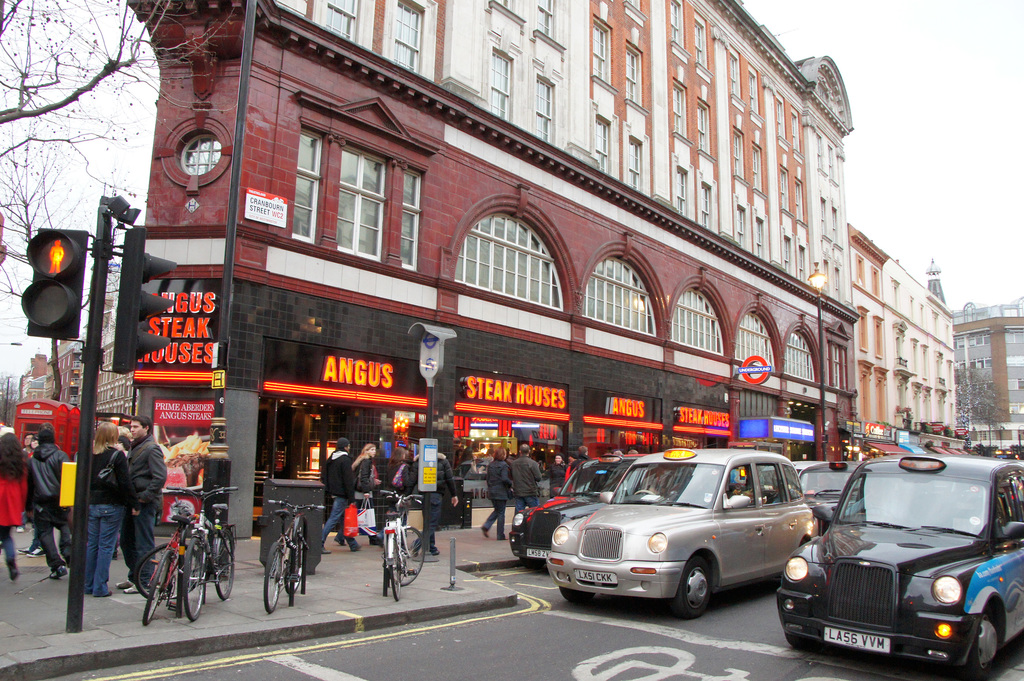Car: (511, 454, 1023, 680)
